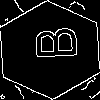B: (25, 25, 78, 61)
